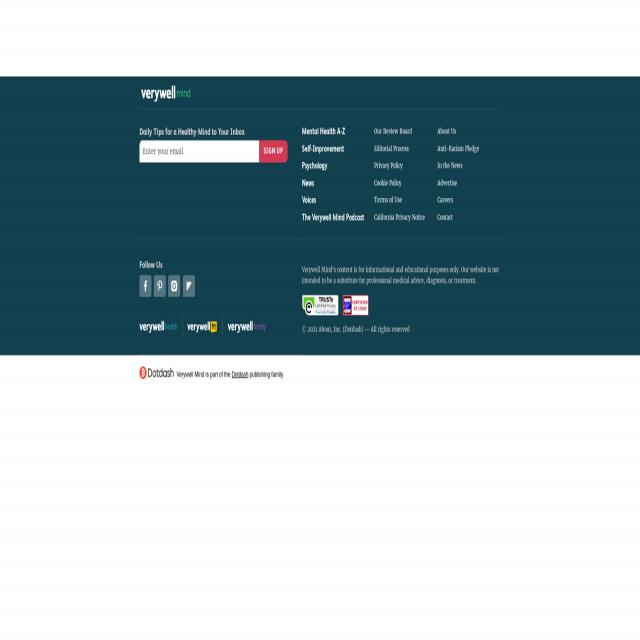button: (140, 85, 192, 102), (302, 295, 338, 315), (259, 140, 288, 162), (343, 295, 369, 315), (140, 321, 178, 333), (228, 321, 266, 333), (140, 366, 174, 379), (187, 321, 217, 333), (168, 276, 180, 297), (183, 276, 194, 298), (140, 276, 152, 296), (154, 277, 166, 296)
field: (139, 140, 259, 162)
